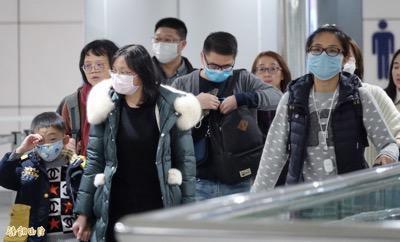with_mask: (306, 41, 344, 81), (151, 31, 180, 64), (35, 131, 66, 161), (110, 66, 138, 95), (204, 59, 234, 83)
without_mask: (82, 58, 108, 86), (254, 61, 281, 87)
